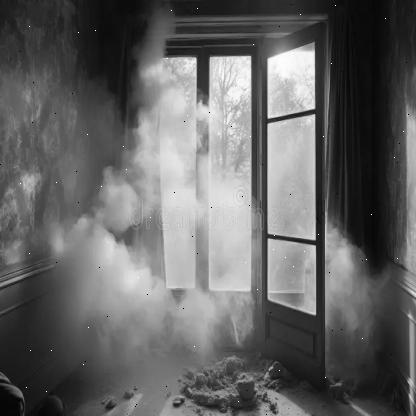smoke: (28, 6, 404, 402)
